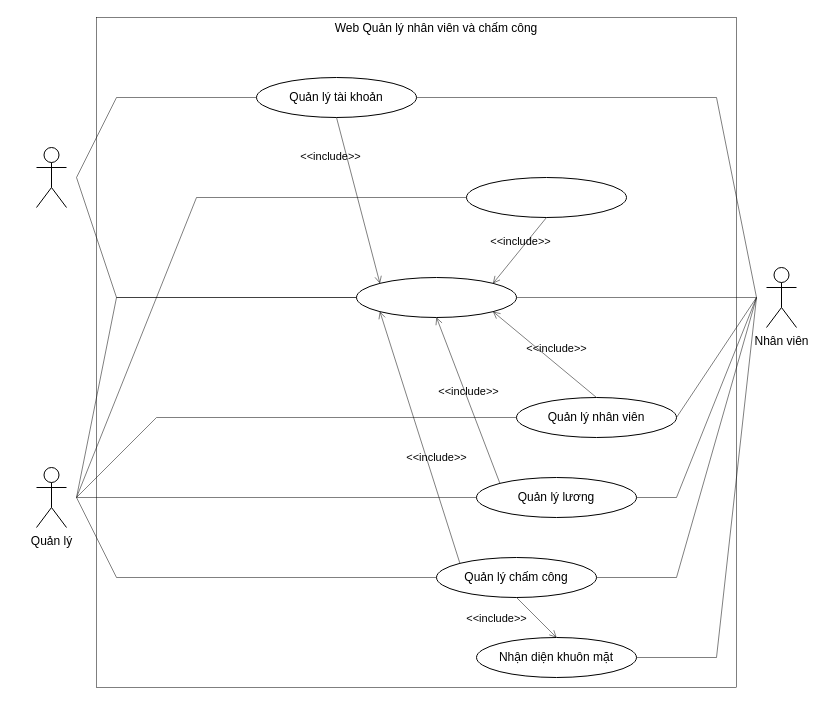
Image size: 826x705. Some labels were removed from this diagram. Each missing label, with the centre of its shape:
Quản lý phòng ban: point (546, 197)
Quản trị viên: point (51, 177)
Đăng nhập: point (436, 297)
